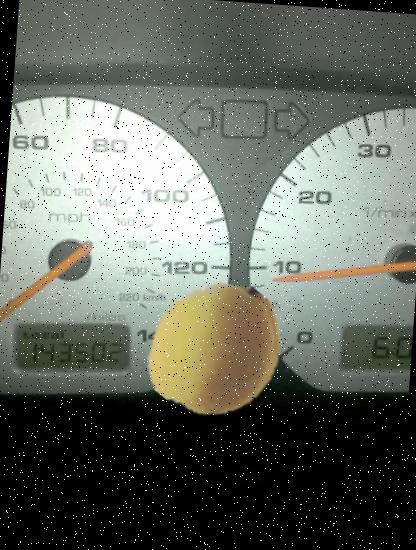Peach: (140, 272, 292, 424)
